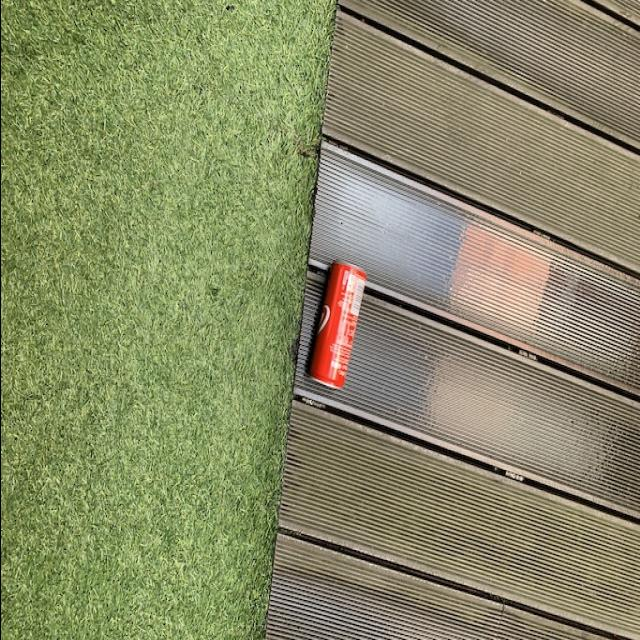litter: (303, 258, 367, 392)
